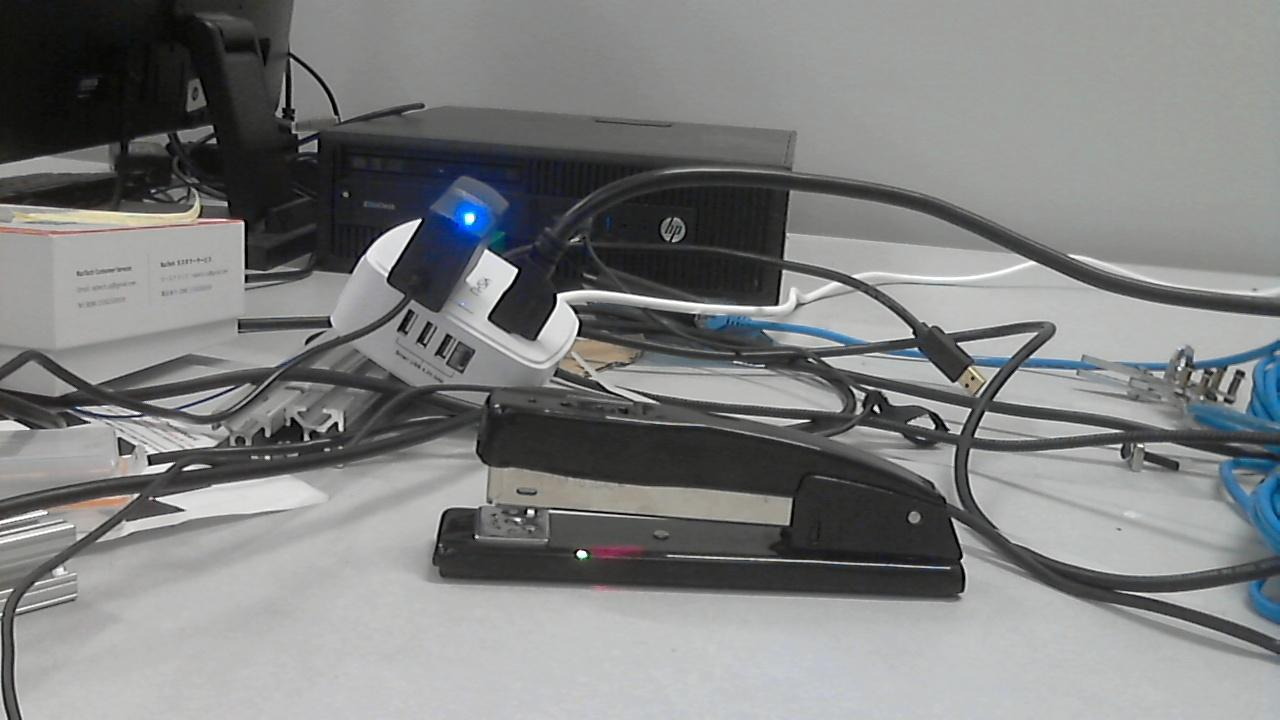object stapler - material metal - color black - Pdfname fduiadew: (567, 532, 651, 564)
